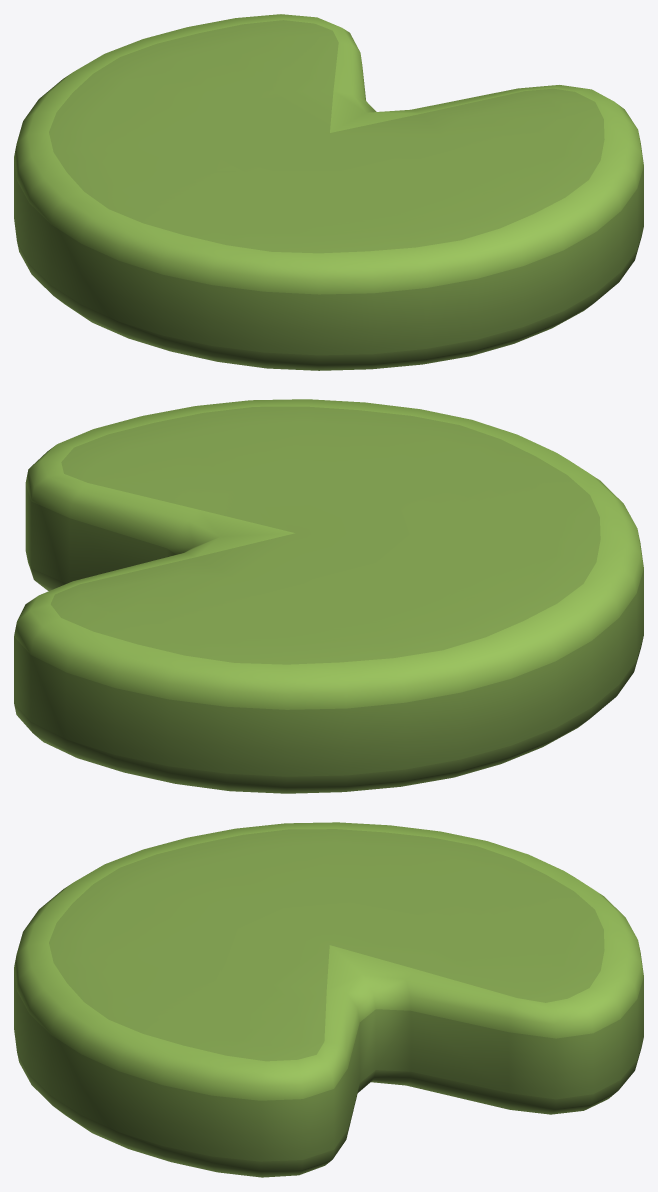
Rendered from water_lily_1_2.fbx.
The picture shows the model from 3 angles, top to bottom: view 1: azimuth 30°, elevation 25°; view 2: azimuth 150°, elevation 25°; view 3: azimuth 270°, elevation 25°; orthographic projection. The views are drawn at different scales.
Visible parts, largest first — view 1: water_lily_1_2; view 2: water_lily_1_2; view 3: water_lily_1_2.
Boxes of the visible parts, left/top/right/bottom form: water_lily_1_2: left=14, top=14, right=643, bottom=370; water_lily_1_2: left=14, top=399, right=643, bottom=793; water_lily_1_2: left=14, top=822, right=643, bottom=1177.
Size of the model in its own units: 91.08 by 18.68 by 92.59.
1 material, 1 textured.
